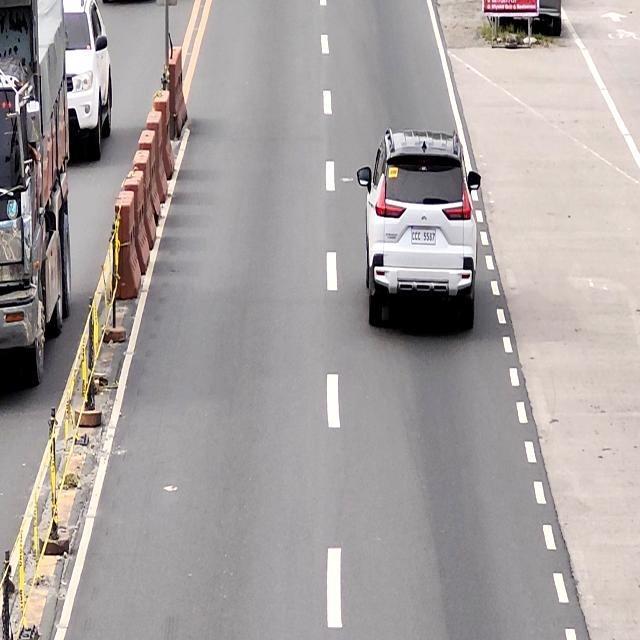Car: (357, 128, 481, 335)
License-Plate: (411, 229, 437, 246)
